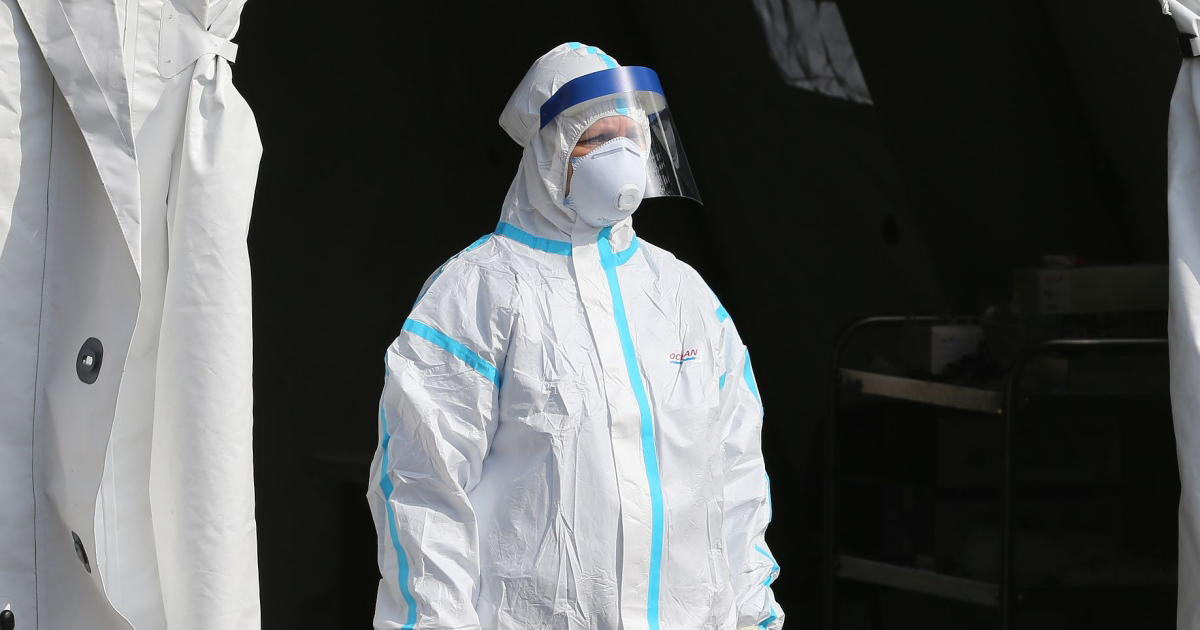Coverall: (367, 40, 785, 625)
Face_Shield: (539, 65, 707, 215)
with_mask: (570, 136, 647, 228)
